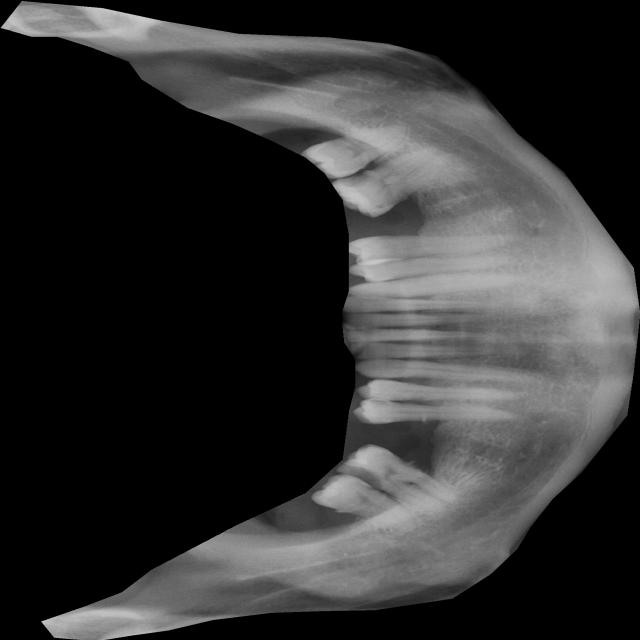mandibula: (1, 0, 640, 640)
